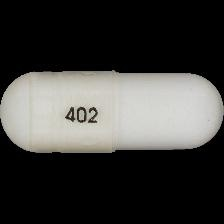62756-402: (0, 0, 224, 224)
